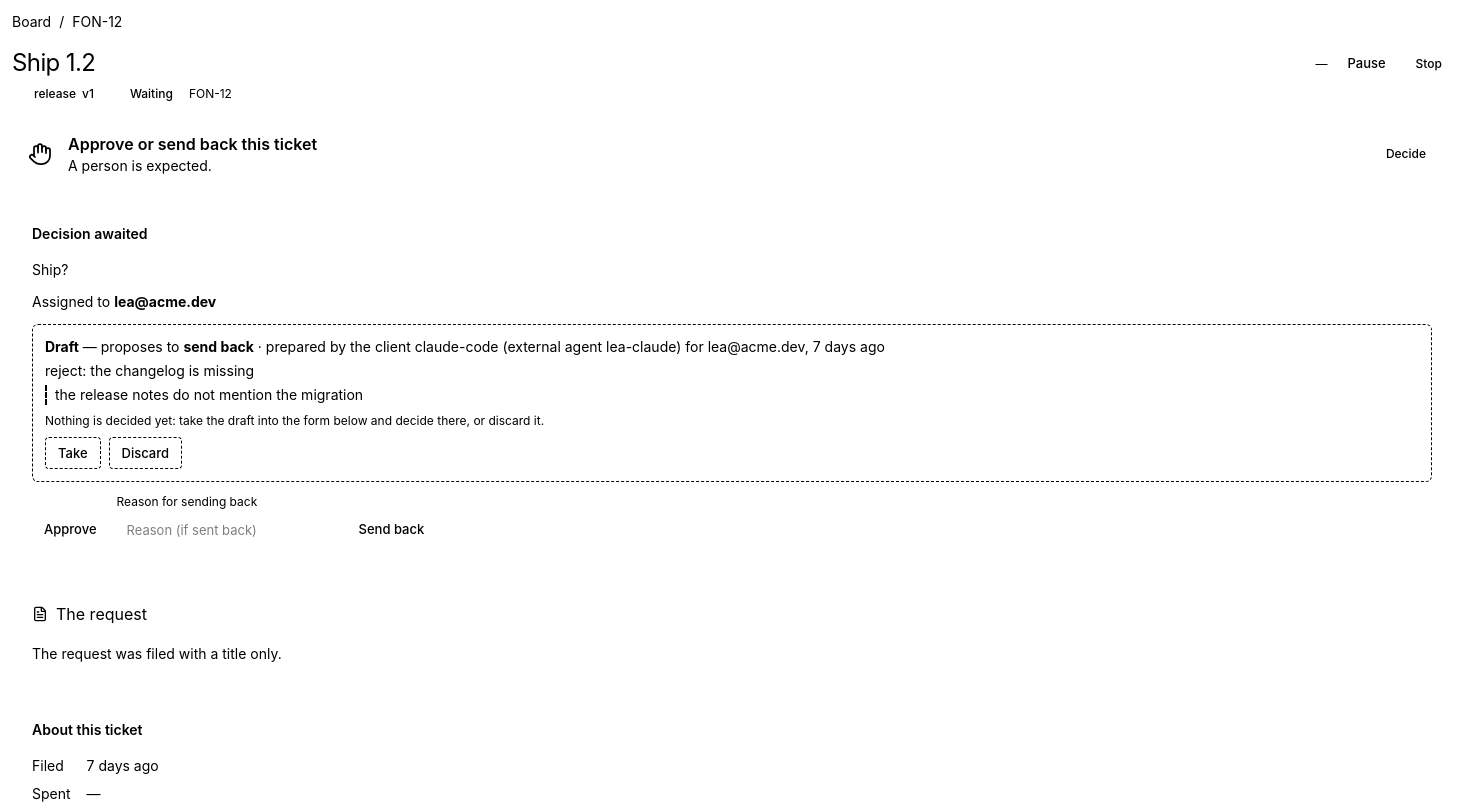
Scenario: a client's draft on the awaited decision (ADR 0163) › is shown on the ticket's awaited decision, and Take fills the form without sending it
expect the element with test id "decision-draft" shows "reject: the changelog is missing": met, box [45,362,254,379]
expect the field with placeholder "Reason (if sent back)" is empty: met, box [116,514,338,546]
Click the button "Take" at (73,453), box [45,437,100,469]
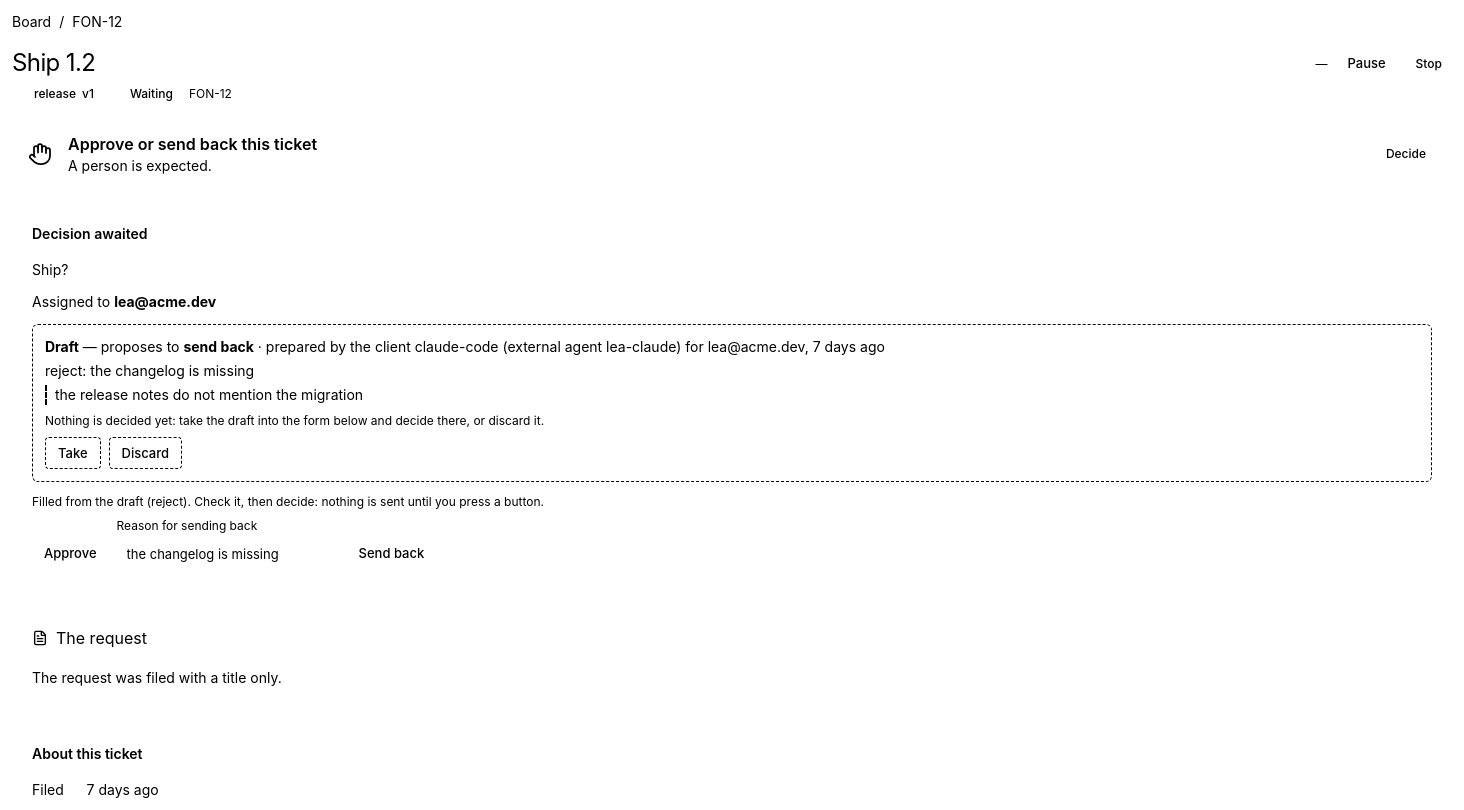
expect the field with placeholder "Reason (if sent back)" holds "the changelog is missing": met, box [116,538,338,570]
expect the text with test id "draft-taken" is shown: met, box [32,494,544,509]
